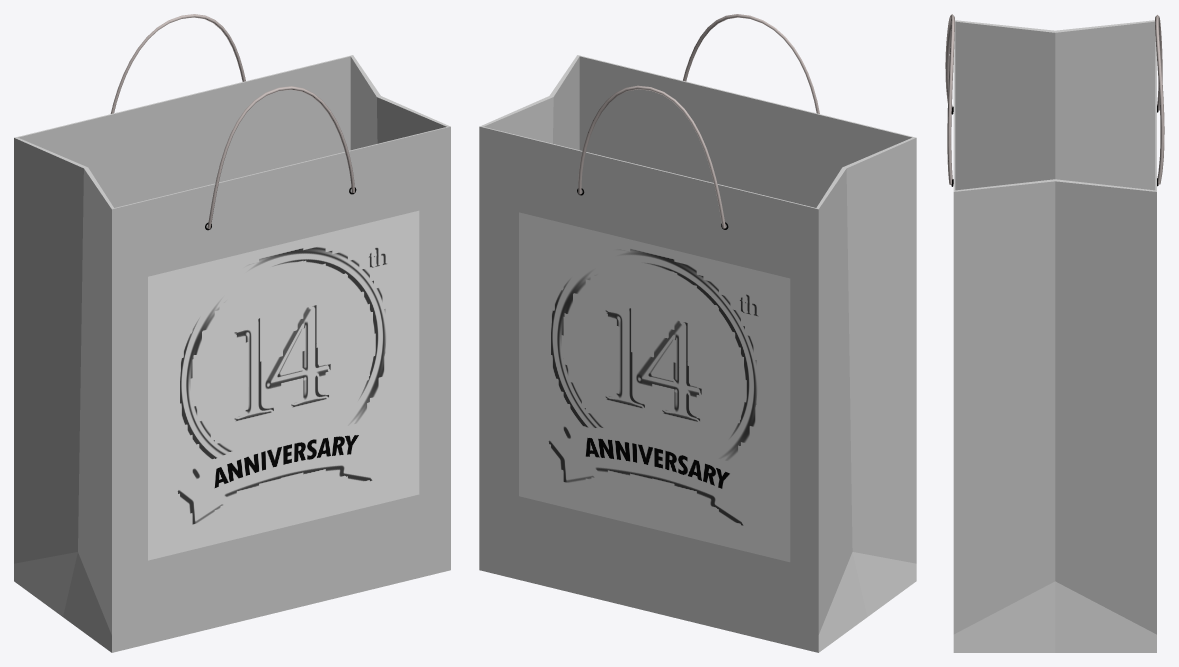
Rendered from NewShoppingBag 2.fbx.
The picture shows the model from 3 angles, left to right: view 1: azimuth 30°, elevation 25°; view 2: azimuth 150°, elevation 25°; view 3: azimuth 270°, elevation 25°; orthographic projection. The views are drawn at different scales.
Parts seen in each view (by area): view 1: Cube; view 2: Cube; view 3: Cube.
Boxes of the visible parts, x1=… form: Cube: x1=14, y1=14, x2=450, y2=652; Cube: x1=479, y1=14, x2=916, y2=652; Cube: x1=945, y1=14, x2=1164, y2=652.
Bounding box in the file's own units: 200 × 296 × 108.
4 materials, 1 textured.
